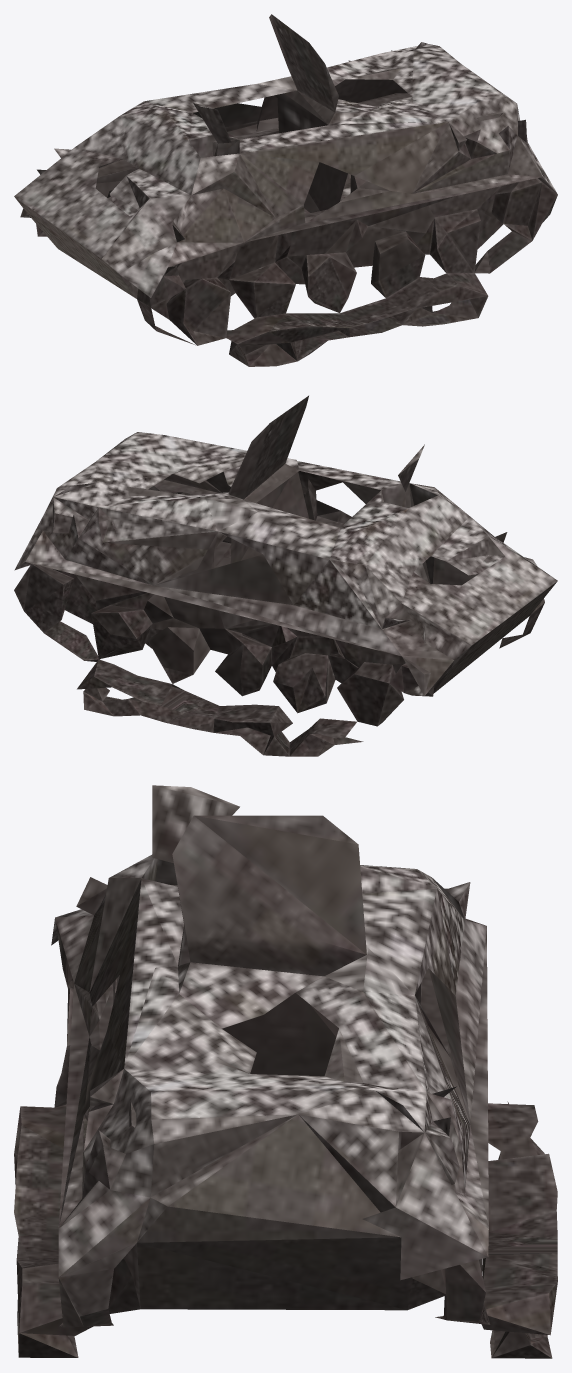
Rendered from wreck_hull.glb.
3 renders of one model, top to bottom at view 1: azimuth 30°, elevation 25°; view 2: azimuth 150°, elevation 25°; view 3: azimuth 270°, elevation 25°, orthographic. The views are drawn at different scales.
Parts seen in each view (by area): view 1: Mesh_0; view 2: Mesh_0; view 3: Mesh_0.
Boxes of the visible parts, x1=… form: Mesh_0: x1=14, y1=14, x2=557, y2=366; Mesh_0: x1=14, y1=395, x2=557, y2=756; Mesh_0: x1=14, y1=785, x2=557, y2=1358.
Bounding box in the file's own units: 1.87 × 1.08 × 1.19.
Materials: 1 (1 with a texture image).
